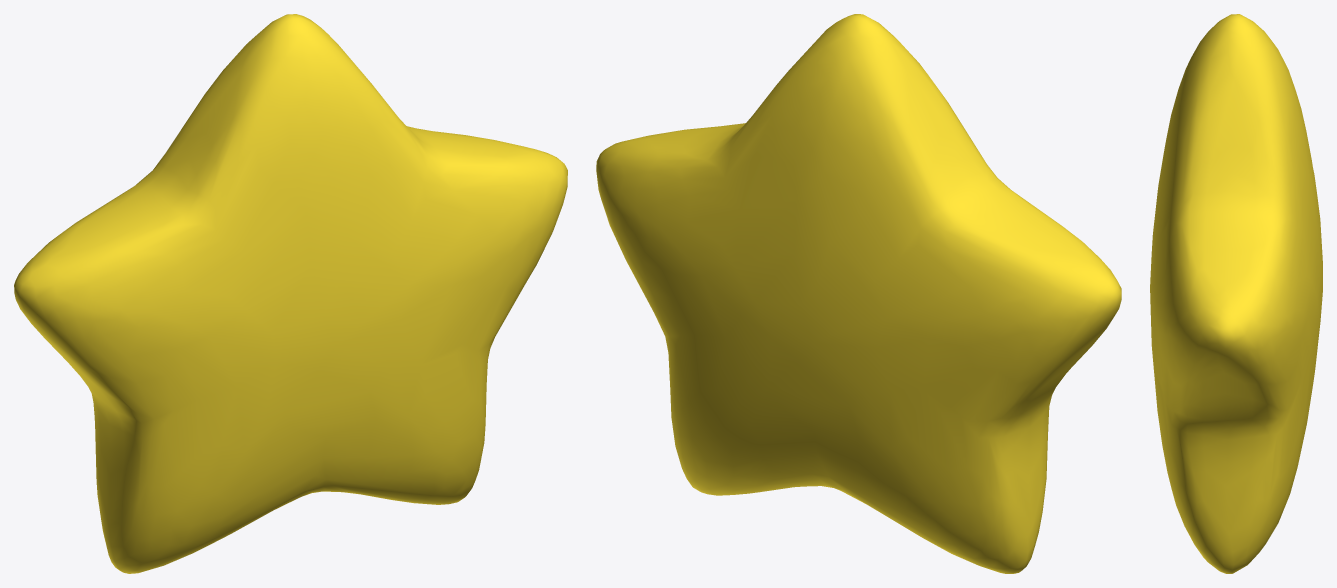
File: Star.glb
3 views of the same model, side by side, from view 1: azimuth 30°, elevation 25°; view 2: azimuth 150°, elevation 25°; view 3: azimuth 270°, elevation 25° (orthographic). The views are drawn at different scales.
Parts seen in each view (by area): view 1: star; view 2: star; view 3: star.
Part boxes in pixels (x1,y1,x2,y2): star: (14, 14, 567, 573); star: (596, 14, 1121, 573); star: (1150, 14, 1322, 573).
Bounding box in the file's own units: 0.4564 × 0.4236 × 0.1367.
